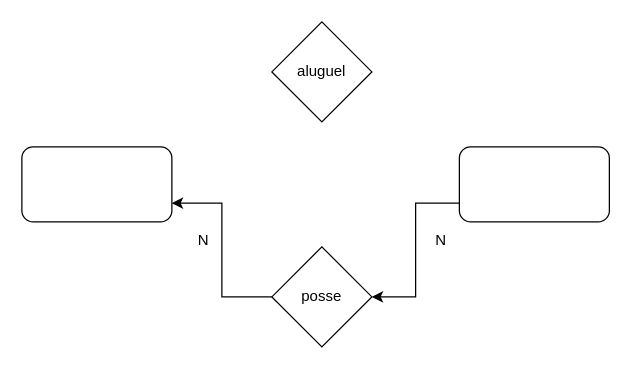
Image size: 631x369. Some labels were removed from this diagram. The centre of each missing label's shape, as x and y in pixels:
"Pessoa" goes at (x=96, y=184).
"Propriedades" goes at (x=533, y=184).
